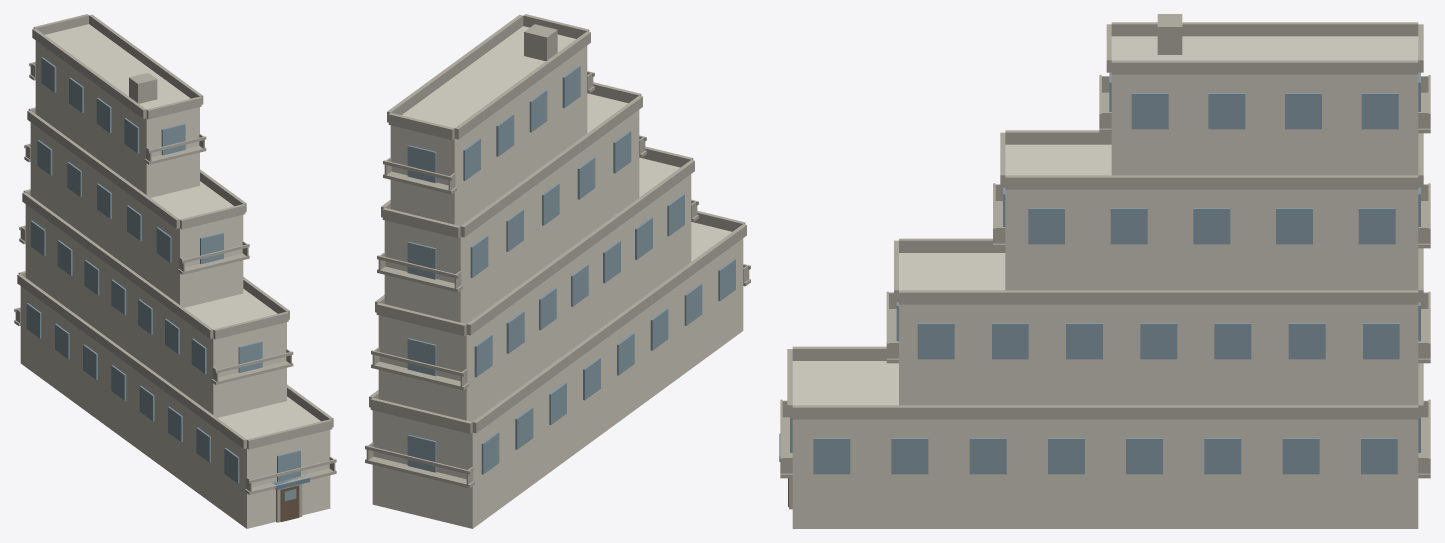
File: residential_1x4_terraces.glb
3 views of the same model, side by side, from view 1: azimuth 30°, elevation 25°; view 2: azimuth 150°, elevation 25°; view 3: azimuth 270°, elevation 25° (orthographic). The views are drawn at different scales.
Parts seen in each view (by area): view 1: residential_1x4_terraces_0; view 2: residential_1x4_terraces_0; view 3: residential_1x4_terraces_0.
Boxes of the visible parts, x1,y1,x2,y2 form: residential_1x4_terraces_0: (14, 14, 336, 528); residential_1x4_terraces_0: (365, 14, 750, 528); residential_1x4_terraces_0: (779, 14, 1430, 528).
Size of the model in its own units: 7 by 25.5 by 31.75.
